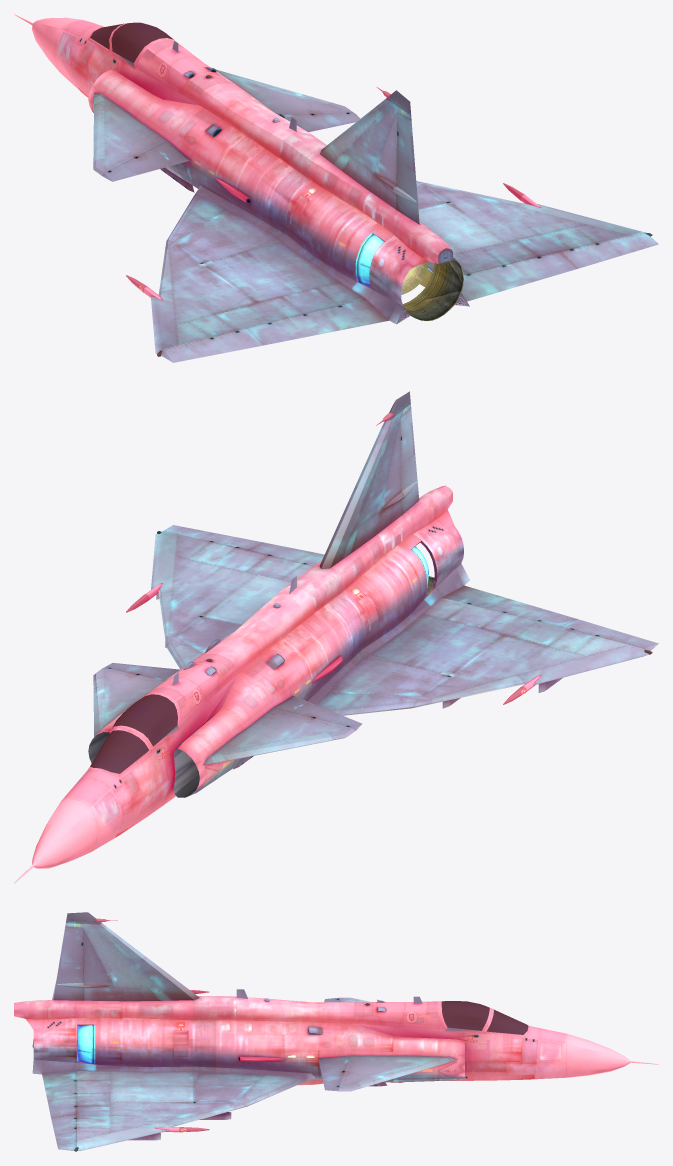
The picture shows the model from 3 angles, top to bottom: view 1: azimuth 30°, elevation 25°; view 2: azimuth 150°, elevation 25°; view 3: azimuth 270°, elevation 25°; orthographic projection. The views are drawn at different scales.
Visible parts, largest first — view 1: SAAB-37-Viggen_LOD0_default, SAAB-37-Viggen_FlapL01_default, SAAB-37-Viggen_FlapR01_default, SAAB-37-Viggen_RudderL01_default, SAAB-37-Viggen_AileronL01_default, SAAB-37-Viggen_Glass01_default, SAAB-37-Viggen_AileronR01_default, SAAB-37-Viggen_CanardL01_default, SAAB-37-Viggen_EngineL01_default, SAAB-37-Viggen_CanardR01_default; view 2: SAAB-37-Viggen_LOD0_default, SAAB-37-Viggen_Glass01_default, SAAB-37-Viggen_FlapL01_default, SAAB-37-Viggen_RudderL01_default, SAAB-37-Viggen_AileronL01_default, SAAB-37-Viggen_CanardL01_default, SAAB-37-Viggen_AileronR01_default, SAAB-37-Viggen_FlapR01_default; view 3: SAAB-37-Viggen_LOD0_default, SAAB-37-Viggen_RudderL01_default, SAAB-37-Viggen_Glass01_default, SAAB-37-Viggen_FlapR01_default, SAAB-37-Viggen_AileronR01_default, SAAB-37-Viggen_CanardR01_default, SAAB-37-Viggen_EngineL01_default, SAAB-37-Viggen_BrakeR01_default.
Boxes of the visible parts, x1,y1,x2,y2 form: SAAB-37-Viggen_LOD0_default: [14, 14, 652, 356]; SAAB-37-Viggen_FlapL01_default: [247, 299, 388, 345]; SAAB-37-Viggen_FlapR01_default: [461, 251, 576, 301]; SAAB-37-Viggen_RudderL01_default: [392, 112, 419, 224]; SAAB-37-Viggen_AileronL01_default: [161, 328, 263, 362]; SAAB-37-Viggen_Glass01_default: [90, 22, 173, 62]; SAAB-37-Viggen_AileronR01_default: [560, 232, 658, 268]; SAAB-37-Viggen_CanardL01_default: [102, 142, 189, 181]; SAAB-37-Viggen_EngineL01_default: [355, 233, 428, 295]; SAAB-37-Viggen_CanardR01_default: [283, 112, 360, 132]; SAAB-37-Viggen_LOD0_default: [14, 391, 652, 883]; SAAB-37-Viggen_Glass01_default: [90, 694, 177, 773]; SAAB-37-Viggen_FlapL01_default: [442, 585, 576, 626]; SAAB-37-Viggen_RudderL01_default: [400, 408, 419, 515]; SAAB-37-Viggen_AileronL01_default: [561, 619, 658, 650]; SAAB-37-Viggen_CanardL01_default: [277, 696, 362, 730]; SAAB-37-Viggen_AileronR01_default: [162, 525, 263, 549]; SAAB-37-Viggen_FlapR01_default: [247, 542, 324, 565]; SAAB-37-Viggen_LOD0_default: [14, 912, 658, 1151]; SAAB-37-Viggen_RudderL01_default: [53, 926, 84, 1000]; SAAB-37-Viggen_Glass01_default: [441, 1001, 528, 1034]; SAAB-37-Viggen_FlapR01_default: [42, 1071, 76, 1117]; SAAB-37-Viggen_AileronR01_default: [51, 1114, 77, 1150]; SAAB-37-Viggen_CanardR01_default: [318, 1057, 349, 1091]; SAAB-37-Viggen_EngineL01_default: [78, 1024, 95, 1064]; SAAB-37-Viggen_BrakeR01_default: [173, 1031, 193, 1057].
Bounding box in the file's own units: 10.86 × 5.03 × 16.37.
Materials: 4 (4 with a texture image).
